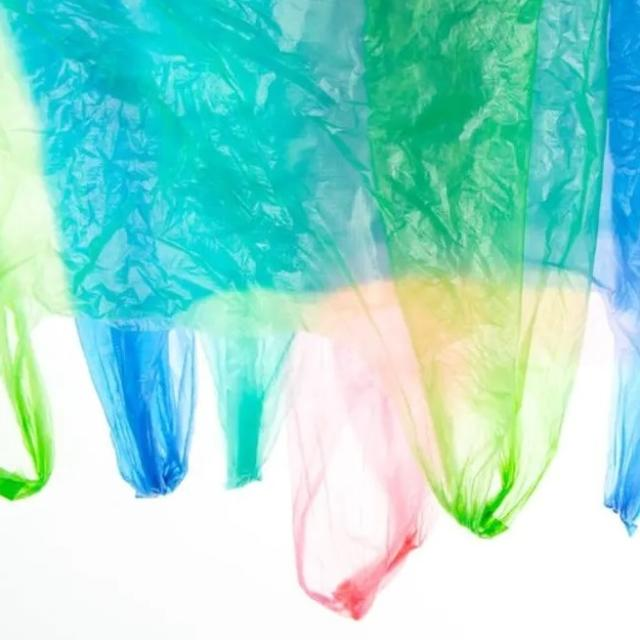Single-layer Plastic: (364, 0, 606, 535), (4, 0, 381, 320), (288, 334, 430, 618), (0, 11, 69, 499), (595, 0, 640, 532), (76, 316, 195, 496), (201, 331, 293, 488)
